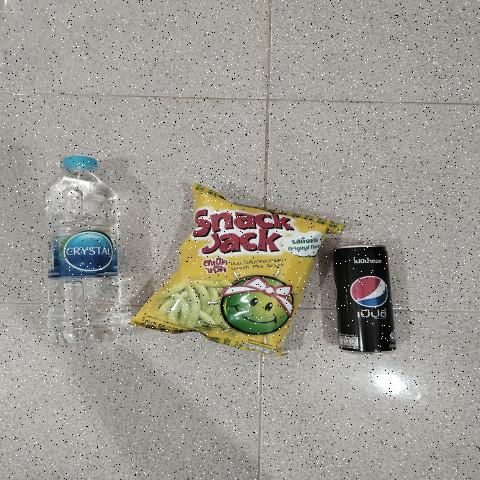crystal: (42, 145, 124, 356)
pepsi_black: (340, 247, 394, 358)
snack_jack: (176, 195, 313, 350)
